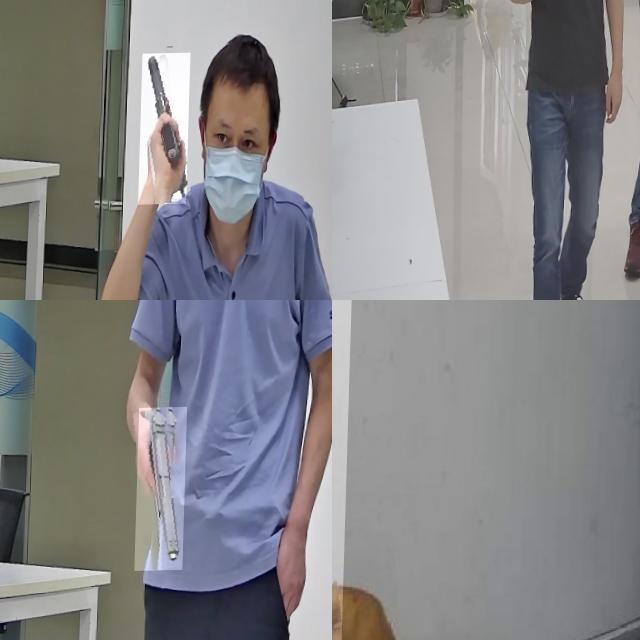-: (332, 300, 394, 640)
gun-knife-thesis - v11 Yolov5 augmented: (136, 408, 188, 572), (141, 54, 192, 206), (544, 0, 582, 34)
